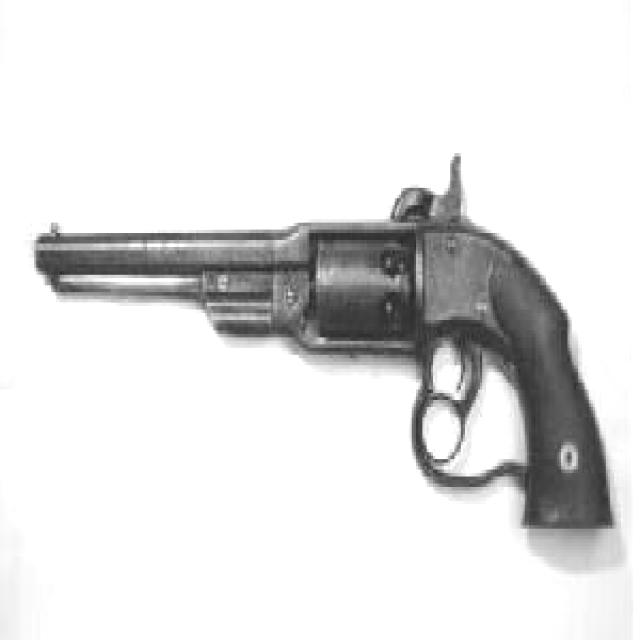pistol: (32, 125, 619, 529)
